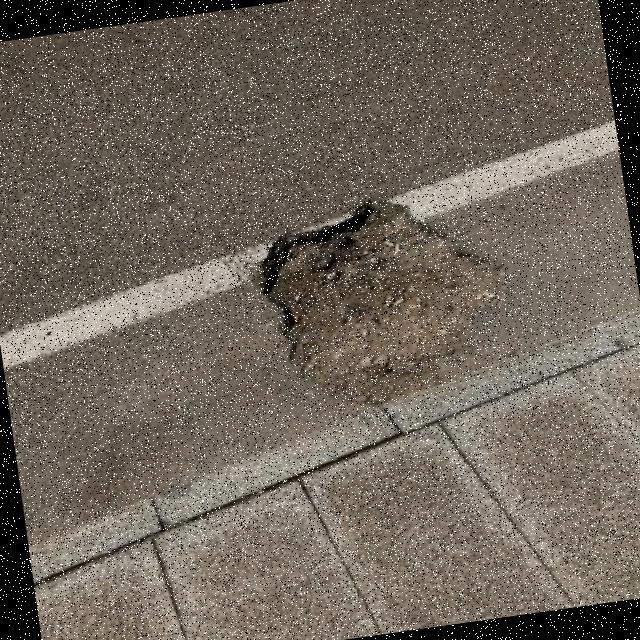Pothole: (259, 200, 505, 408)
